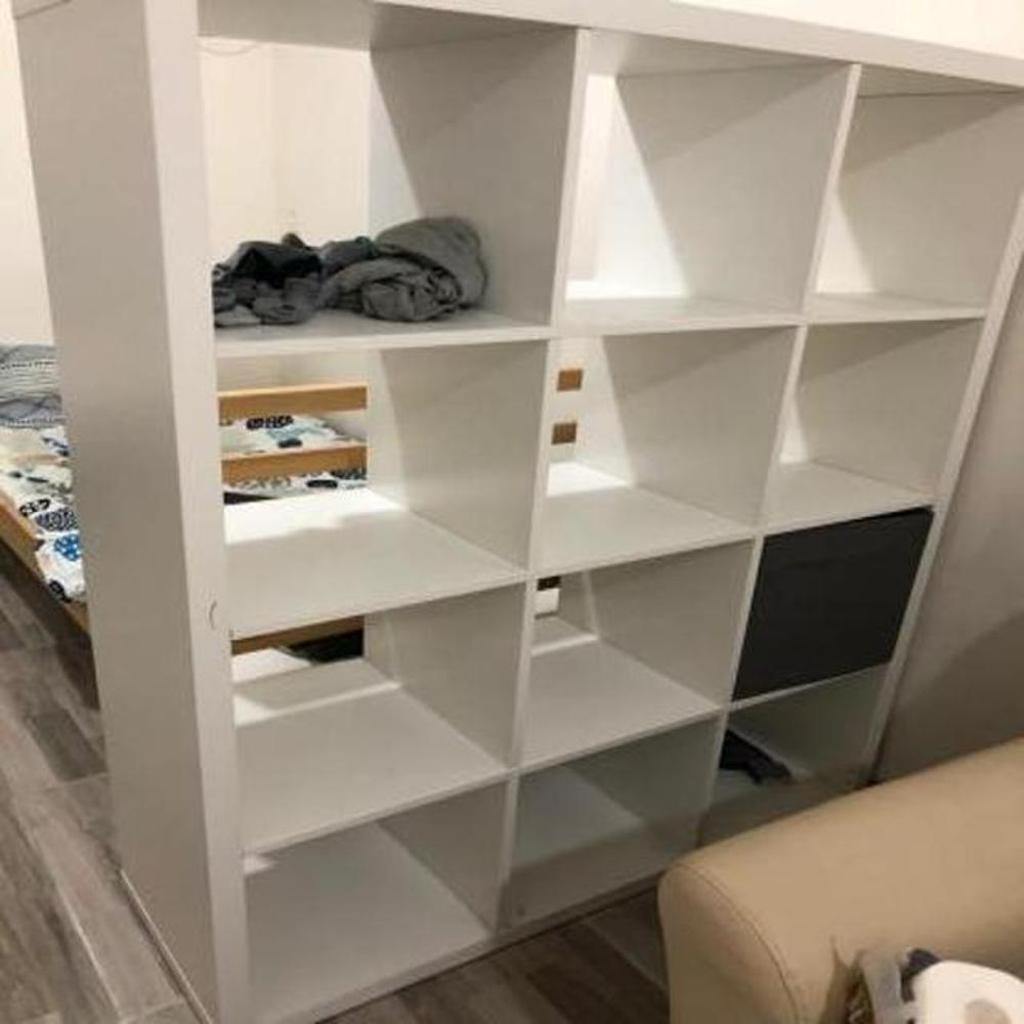lamp: (9, 1, 1023, 1023)
